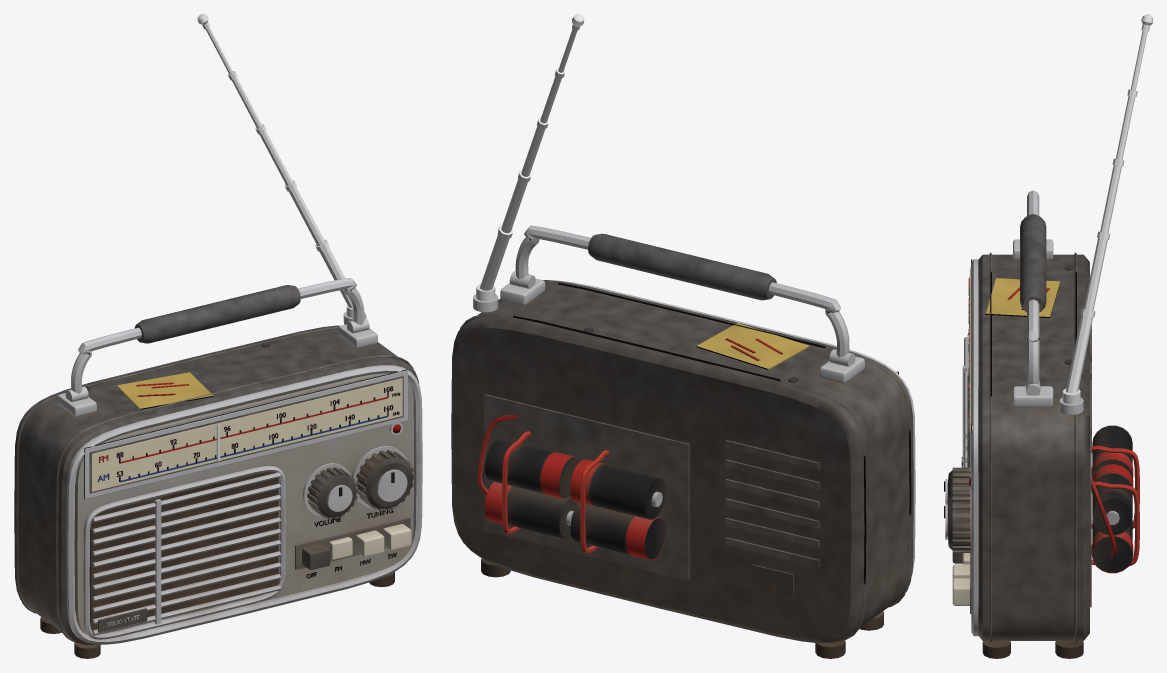
File: RadioV2.fbx
The picture shows the model from 3 angles, left to right: view 1: azimuth 30°, elevation 25°; view 2: azimuth 150°, elevation 25°; view 3: azimuth 270°, elevation 25°; orthographic projection. The views are drawn at different scales.
Parts seen in each view (by area): view 1: Radio, RadioDial, RadioAntenna; view 2: Radio, RadioAntenna; view 3: Radio, RadioAntenna, RadioDial.
Boxes of the visible parts, x1,y1,x2,y2 form: Radio: [14, 278, 422, 658]; RadioDial: [91, 378, 402, 491]; RadioAntenna: [197, 14, 353, 317]; Radio: [451, 225, 915, 658]; RadioAntenna: [476, 14, 584, 301]; Radio: [944, 190, 1139, 658]; RadioAntenna: [1062, 14, 1152, 404]; RadioDial: [968, 269, 970, 471].
Size of the model in its own units: 62.16 by 88.77 by 28.93.
Materials: 4 (2 with a texture image).
